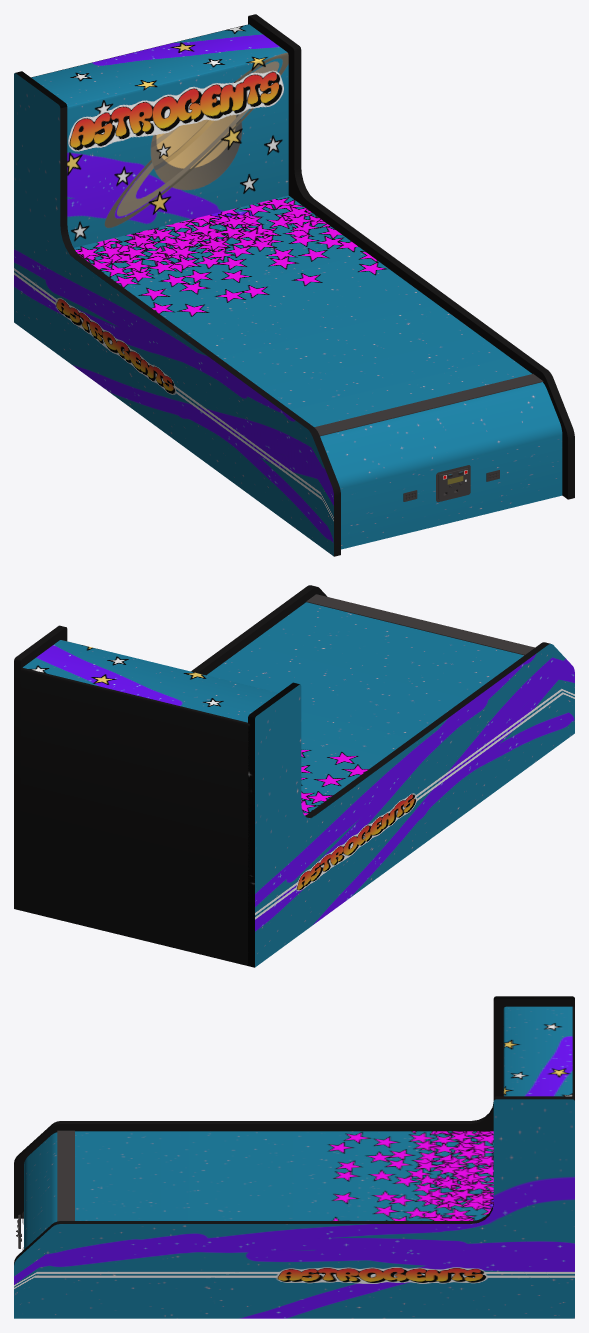
3 renders of one model, top to bottom at view 1: azimuth 30°, elevation 25°; view 2: azimuth 150°, elevation 25°; view 3: azimuth 270°, elevation 25°, orthographic. The views are drawn at different scales.
Visible parts, largest first — view 1: AstroGents_Cabinet; view 2: AstroGents_Cabinet; view 3: AstroGents_Cabinet.
Part boxes in pixels (x1,y1,x2,y2): AstroGents_Cabinet: [14, 14, 574, 556]; AstroGents_Cabinet: [14, 585, 574, 967]; AstroGents_Cabinet: [14, 996, 574, 1318].
Size of the model in its own units: 247 by 246 by 569.
Materials: 9 (1 with a texture image).
